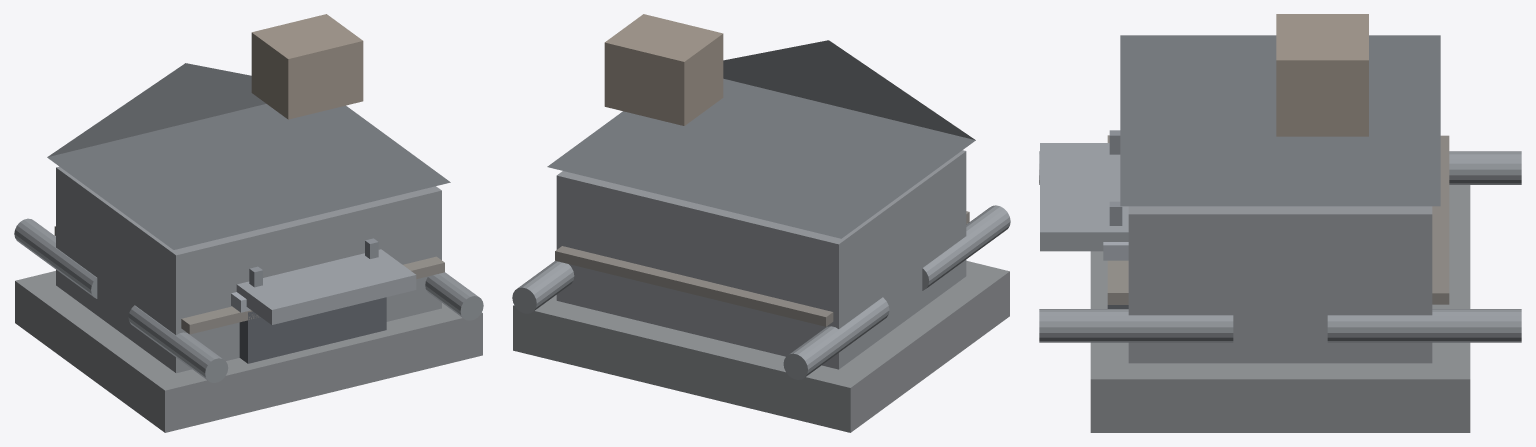
Rendered from building-small-a.glb.
The picture shows the model from 3 angles, left to right: view 1: azimuth 30°, elevation 25°; view 2: azimuth 150°, elevation 25°; view 3: azimuth 270°, elevation 25°; orthographic projection. The views are drawn at different scales.
Parts seen in each view (by area): view 1: world; view 2: world; view 3: world.
Boxes of the visible parts, left/top/right/bottom form: world: left=14, top=14, right=483, bottom=432; world: left=512, top=14, right=1010, bottom=432; world: left=1039, top=14, right=1521, bottom=432.
Bounding box in the file's own units: 1.1 × 0.954 × 1.14.
